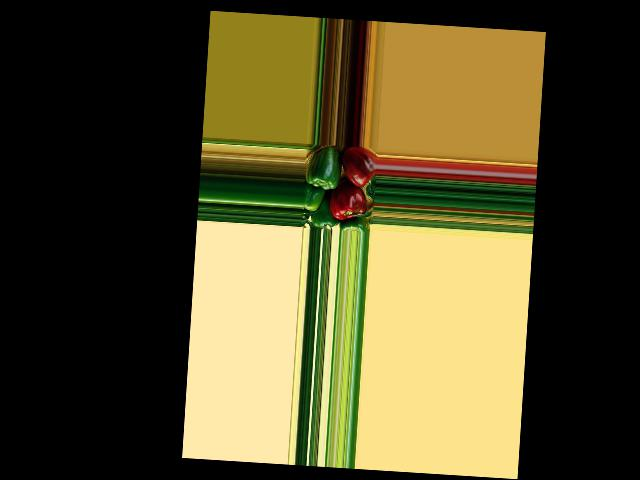bell_pepper: (342, 145, 376, 187)
